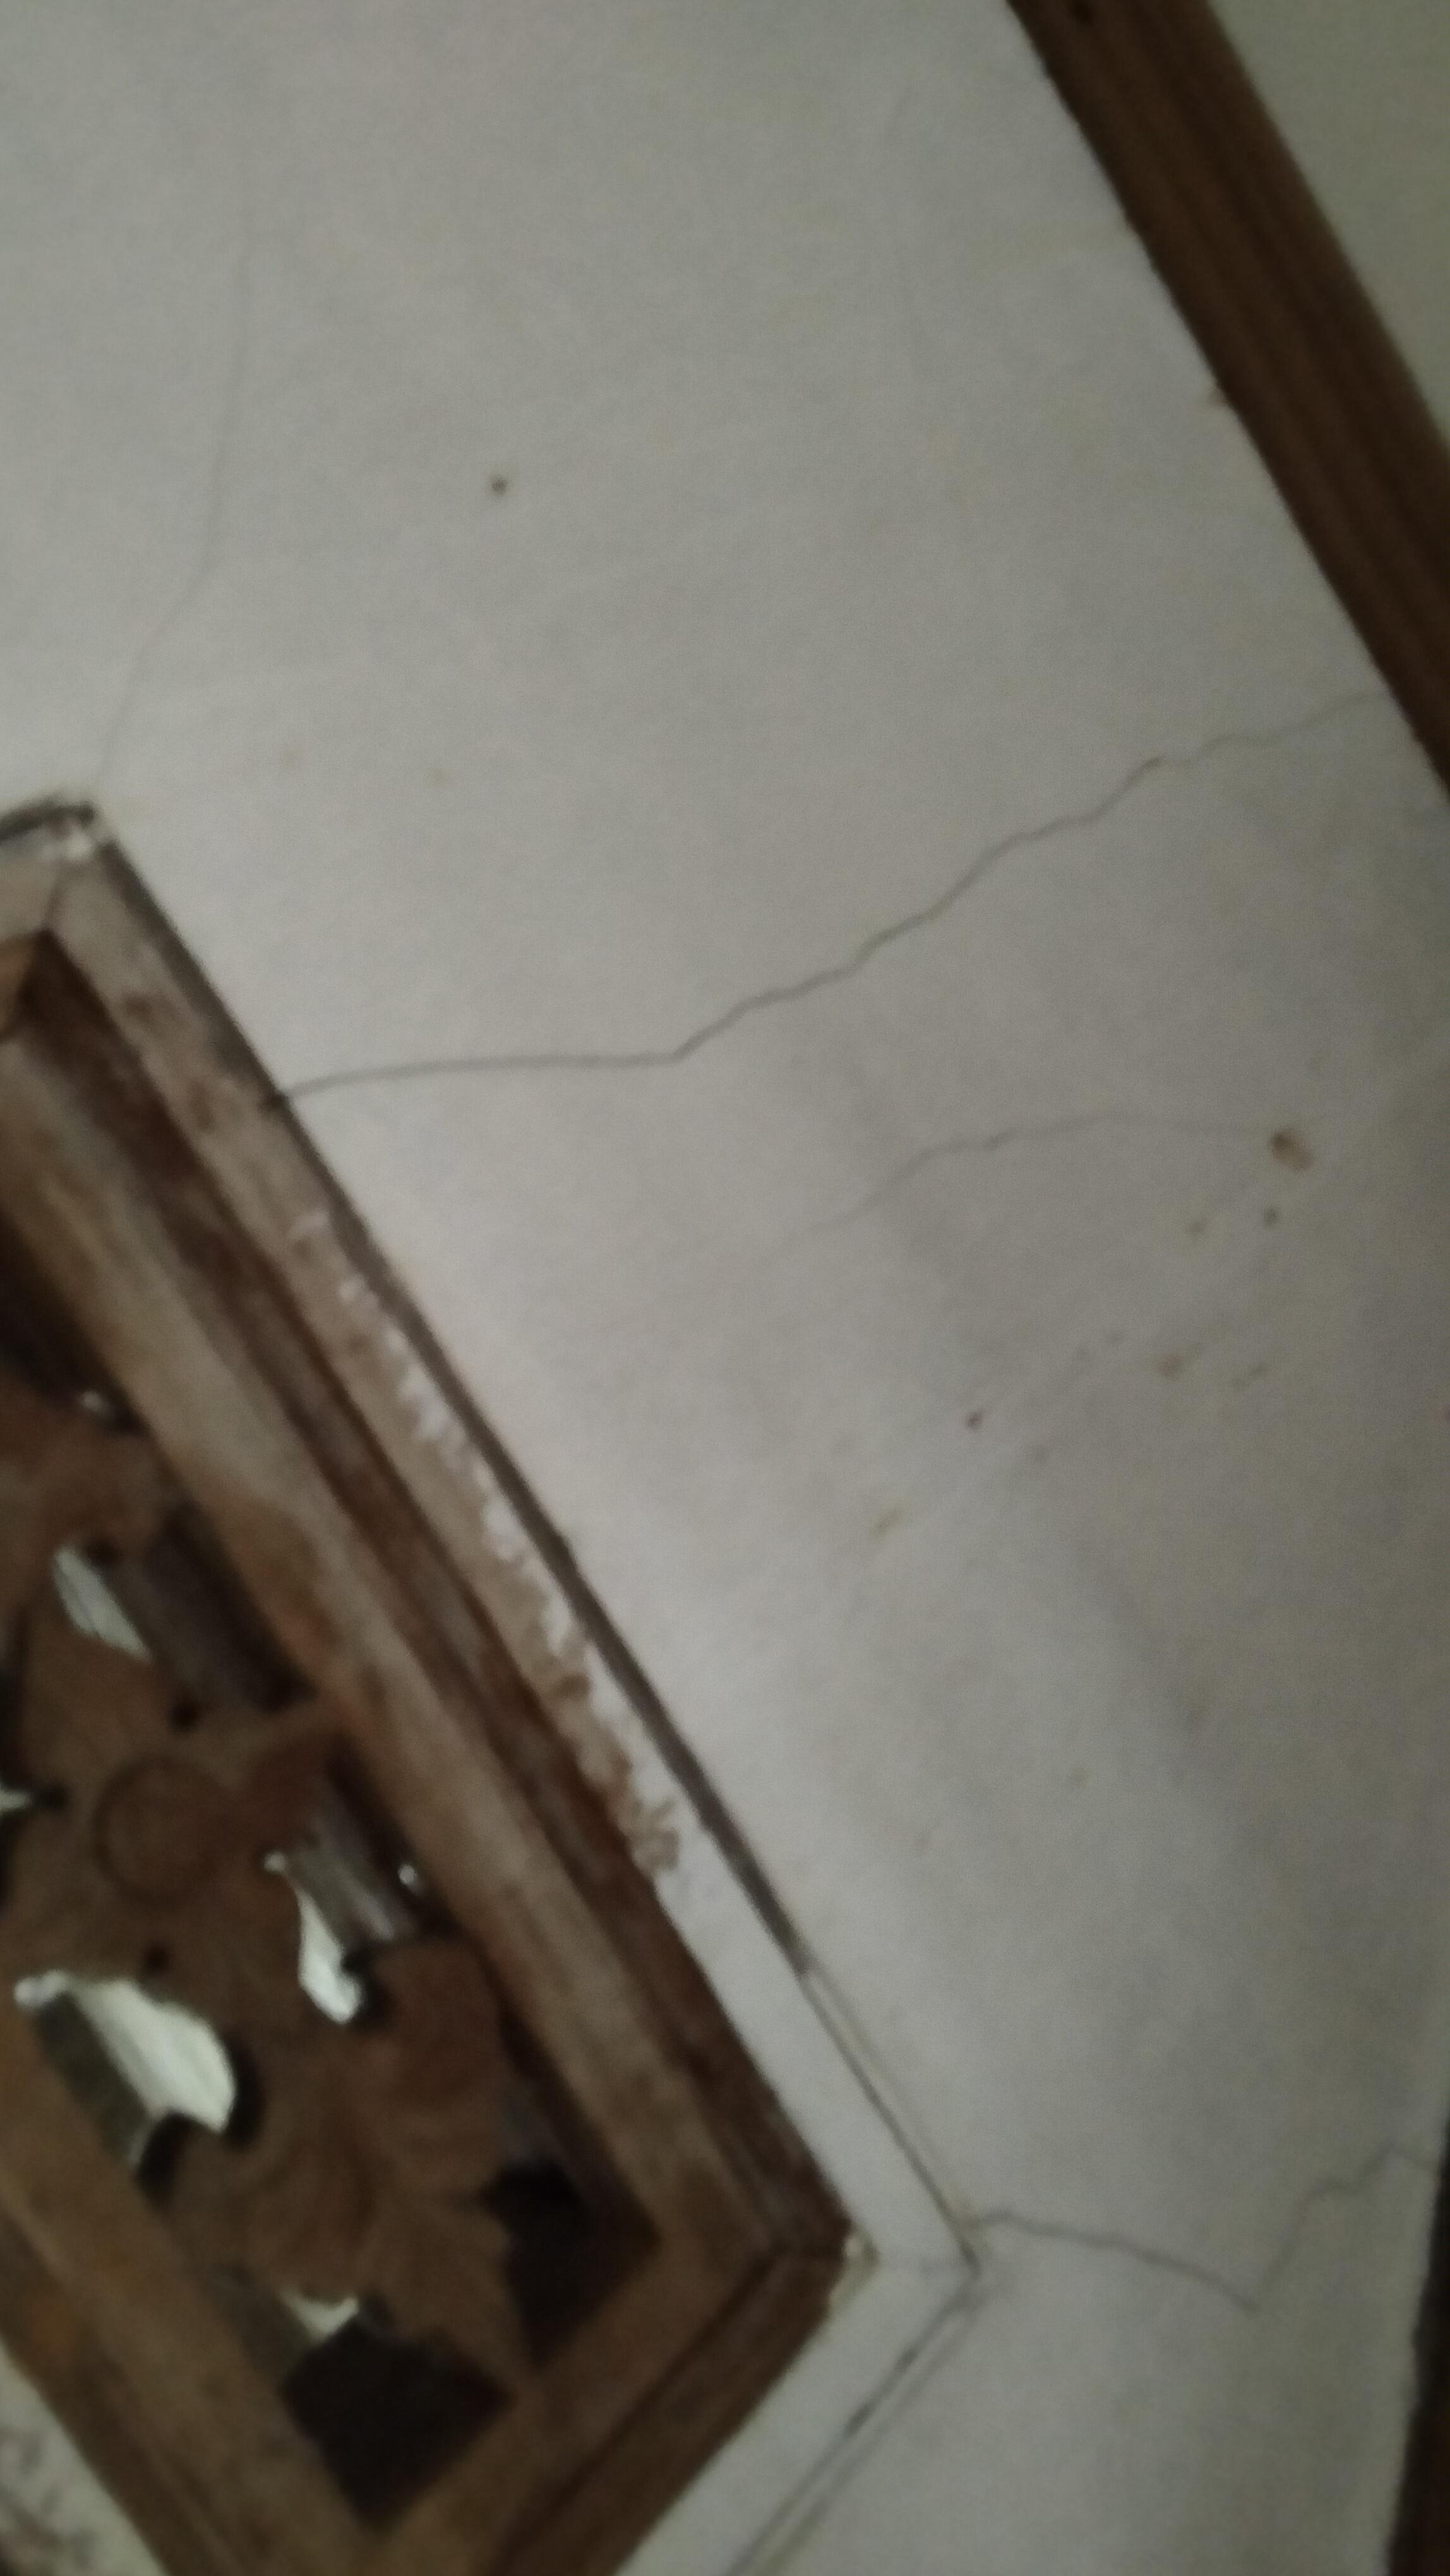Crack: (276, 692, 1393, 1109), (944, 2137, 1450, 2339)
